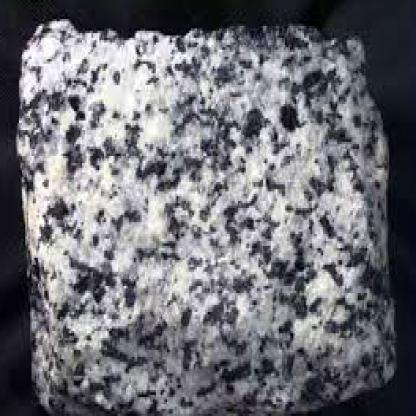Igneous_Diorite: (11, 10, 402, 414)
